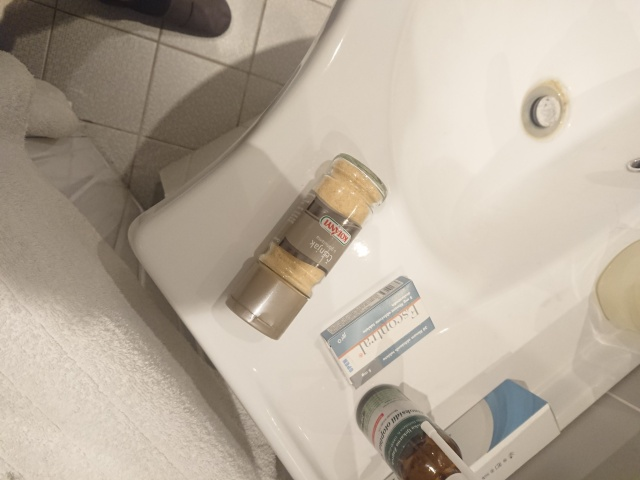Kotanyi Garlic Granules 70g: (222, 150, 391, 341)
